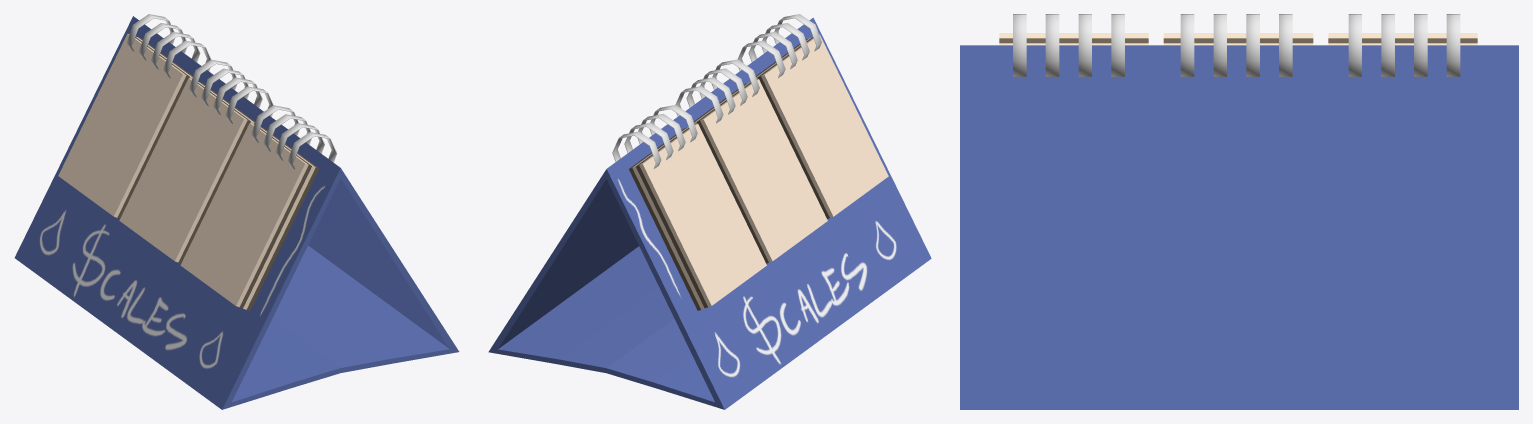
File: blocoNotasScales.fbx
The picture shows the model from 3 angles, left to right: view 1: azimuth 30°, elevation 25°; view 2: azimuth 150°, elevation 25°; view 3: azimuth 270°, elevation 25°; orthographic projection. The views are drawn at different scales.
Visible parts, largest first — view 1: Base, Notas, Rodinhas; view 2: Base, Notas, Rodinhas; view 3: Base, Rodinhas, Notas.
Boxes of the visible parts, x1,y1,x2,y2 form: Base: (14, 16, 459, 409); Notas: (58, 33, 318, 310); Rodinhas: (126, 14, 336, 169); Base: (488, 17, 931, 409); Notas: (629, 34, 888, 310); Rodinhas: (612, 14, 821, 168); Base: (960, 45, 1518, 409); Rodinhas: (1013, 14, 1460, 76); Notas: (999, 33, 1477, 45).
Bounding box in the file's own units: 200 × 187 × 303.
